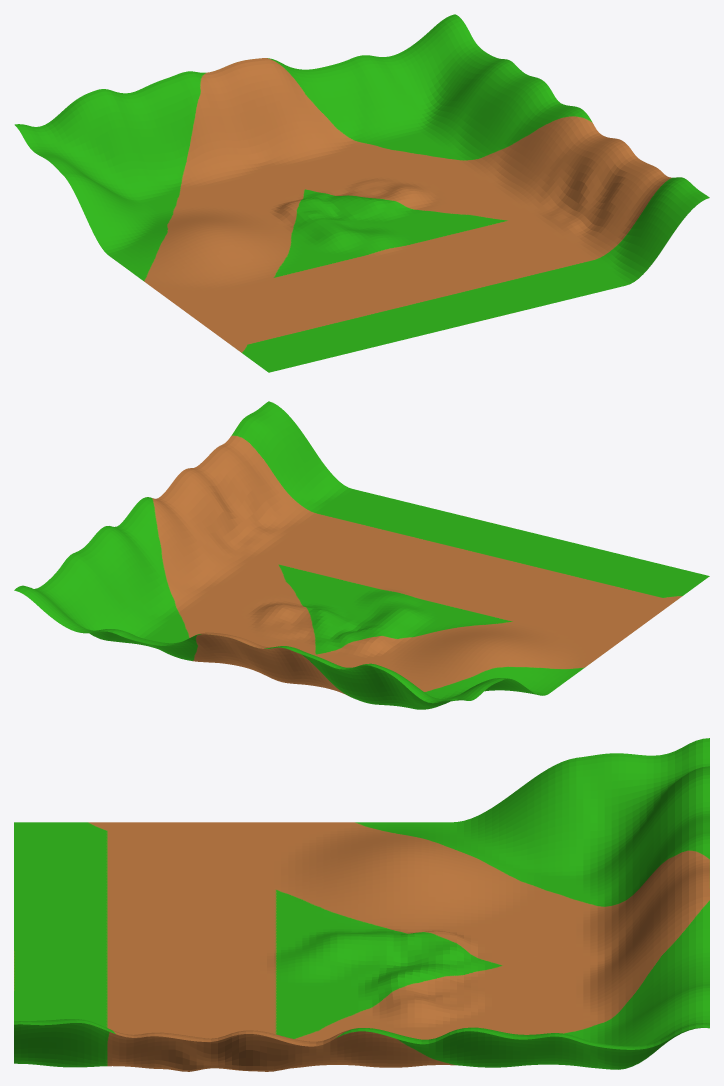
Rendered from Terrain.gltf.
The picture shows the model from 3 angles, top to bottom: view 1: azimuth 30°, elevation 25°; view 2: azimuth 150°, elevation 25°; view 3: azimuth 270°, elevation 25°; orthographic projection. The views are drawn at different scales.
Parts seen in each view (by area): view 1: Terrain; view 2: Terrain; view 3: Terrain.
Boxes of the visible parts, left/top/right/bottom form: Terrain: left=14, top=14, right=709, bottom=372; Terrain: left=14, top=401, right=709, bottom=709; Terrain: left=14, top=738, right=709, bottom=1071.
Bounding box in the file's own units: 1000 × 167 × 1000.
Materials: 1 (1 with a texture image).
